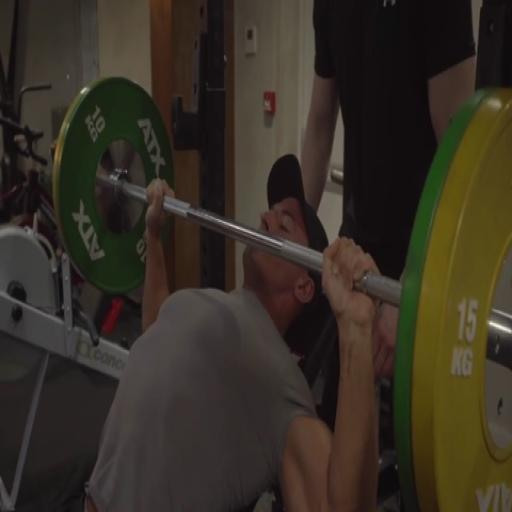exercise: (81, 150, 384, 510)
